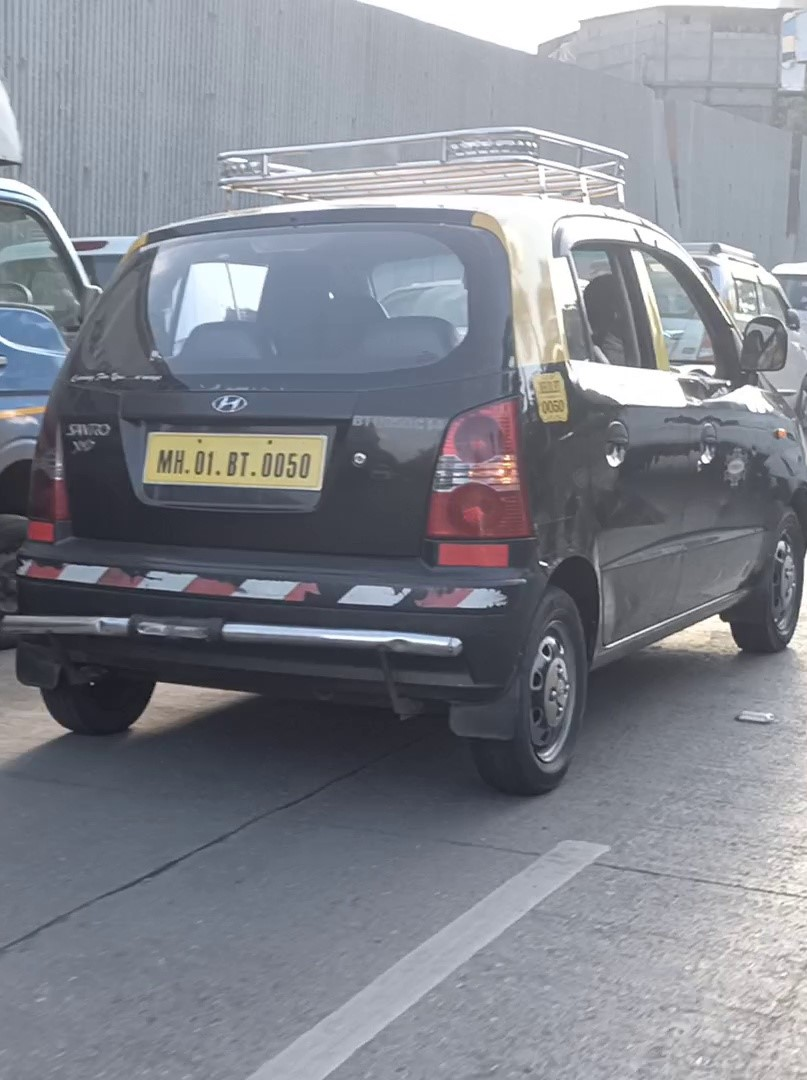MH01BT0050: (141, 429, 328, 487)
